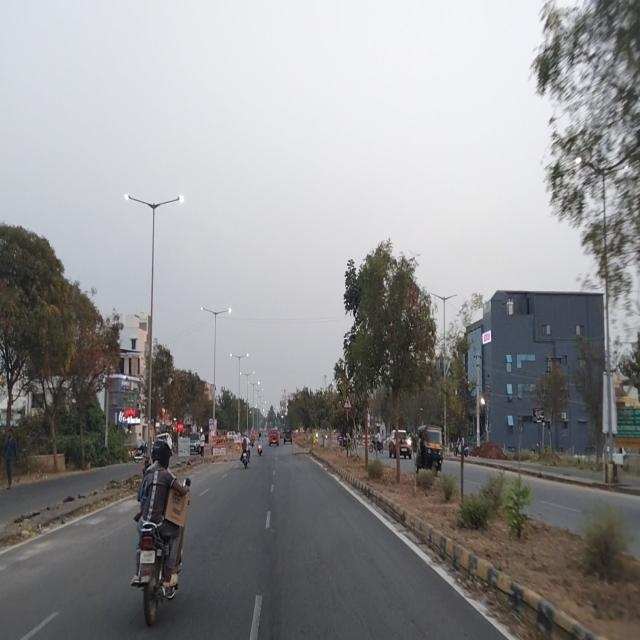bien_nguy_hiem: (343, 393, 352, 410)
